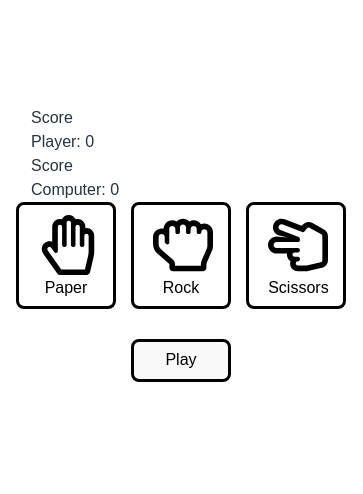
Test: Results › should render that player won after 3 seconds
The image size is (363, 494).
Click the button "Rock" at (181, 256), box left=131, top=202, right=231, bottom=309
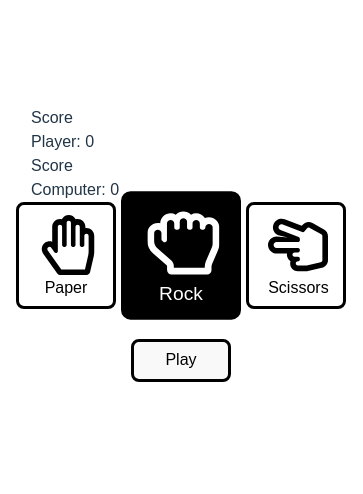
Click the button "Play" at (181, 360), box left=131, top=339, right=231, bottom=382
Wait 3000 ms
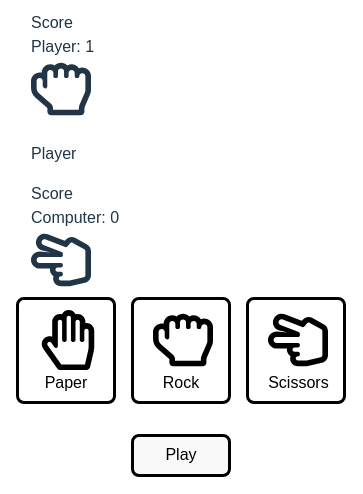
Expected: the text with test id "winner" reads "Player", left=31, top=145, right=76, bottom=162
Expected: the icon with test id "paperHand|rockHand|scissorsHand" is shown, left=31, top=59, right=91, bottom=119
